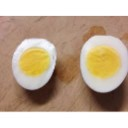begg: (80, 35, 128, 93), (12, 39, 57, 90)
